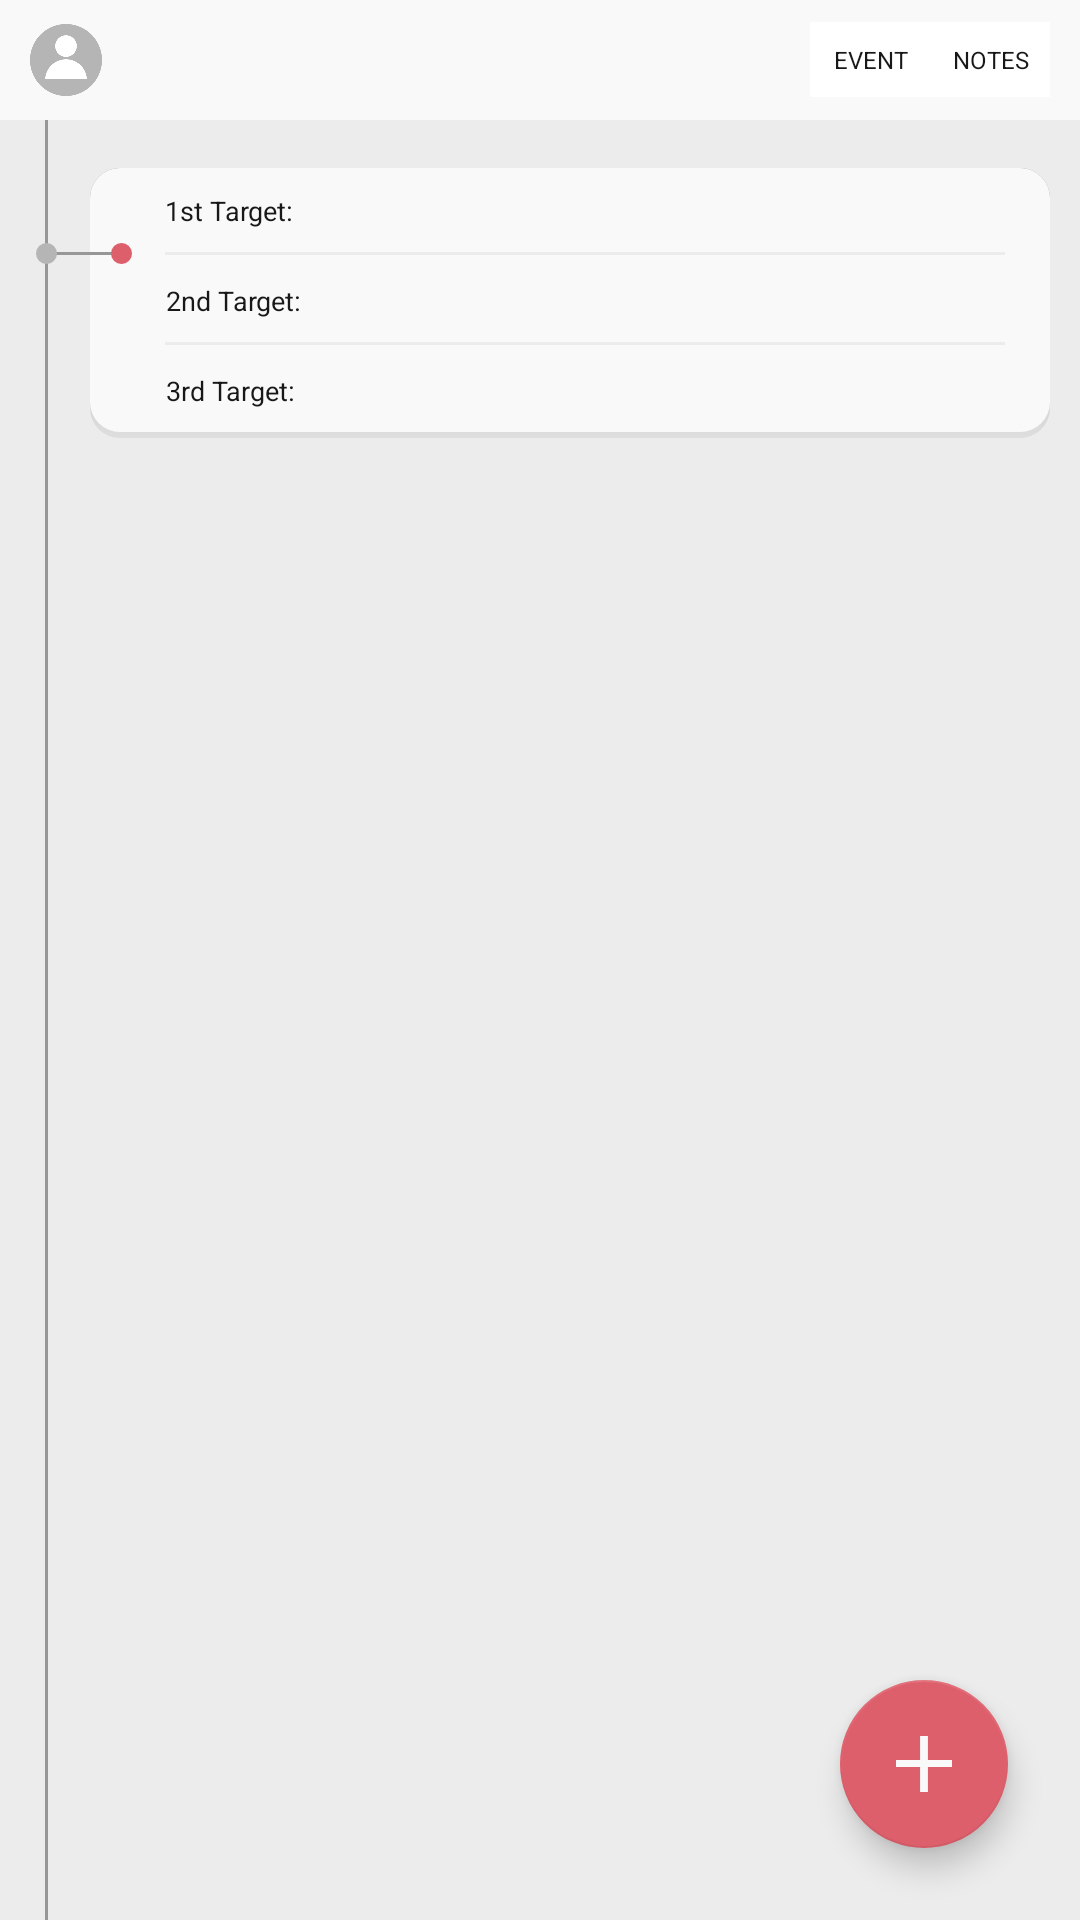

Named icons in this screenshot (1080px×1920px) and their centers, [x,y]:
addicon: [924,1764]
